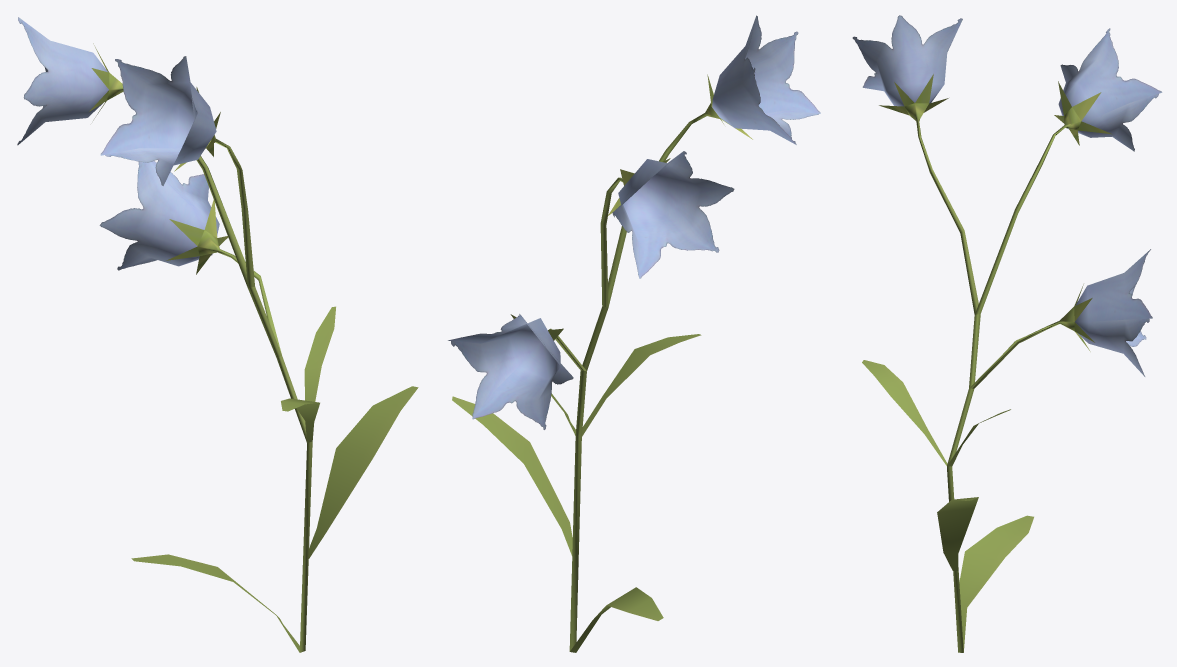
Rendered from flower_bell.glb.
3 views of the same model, side by side, from view 1: azimuth 30°, elevation 25°; view 2: azimuth 150°, elevation 25°; view 3: azimuth 270°, elevation 25° (orthographic). The views are drawn at different scales.
Parts seen in each view (by area): view 1: bq_Flower_Campanula-scheuchzeri_C_spring-summer; view 2: bq_Flower_Campanula-scheuchzeri_C_spring-summer; view 3: bq_Flower_Campanula-scheuchzeri_C_spring-summer.
Boxes of the visible parts, bbox=[...] form: bq_Flower_Campanula-scheuchzeri_C_spring-summer: bbox=[17, 17, 418, 652]; bq_Flower_Campanula-scheuchzeri_C_spring-summer: bbox=[448, 15, 820, 652]; bq_Flower_Campanula-scheuchzeri_C_spring-summer: bbox=[852, 15, 1162, 652].
Bounding box in the file's own units: 0.101 × 0.1863 × 0.0919.
2 materials, 2 textured.
